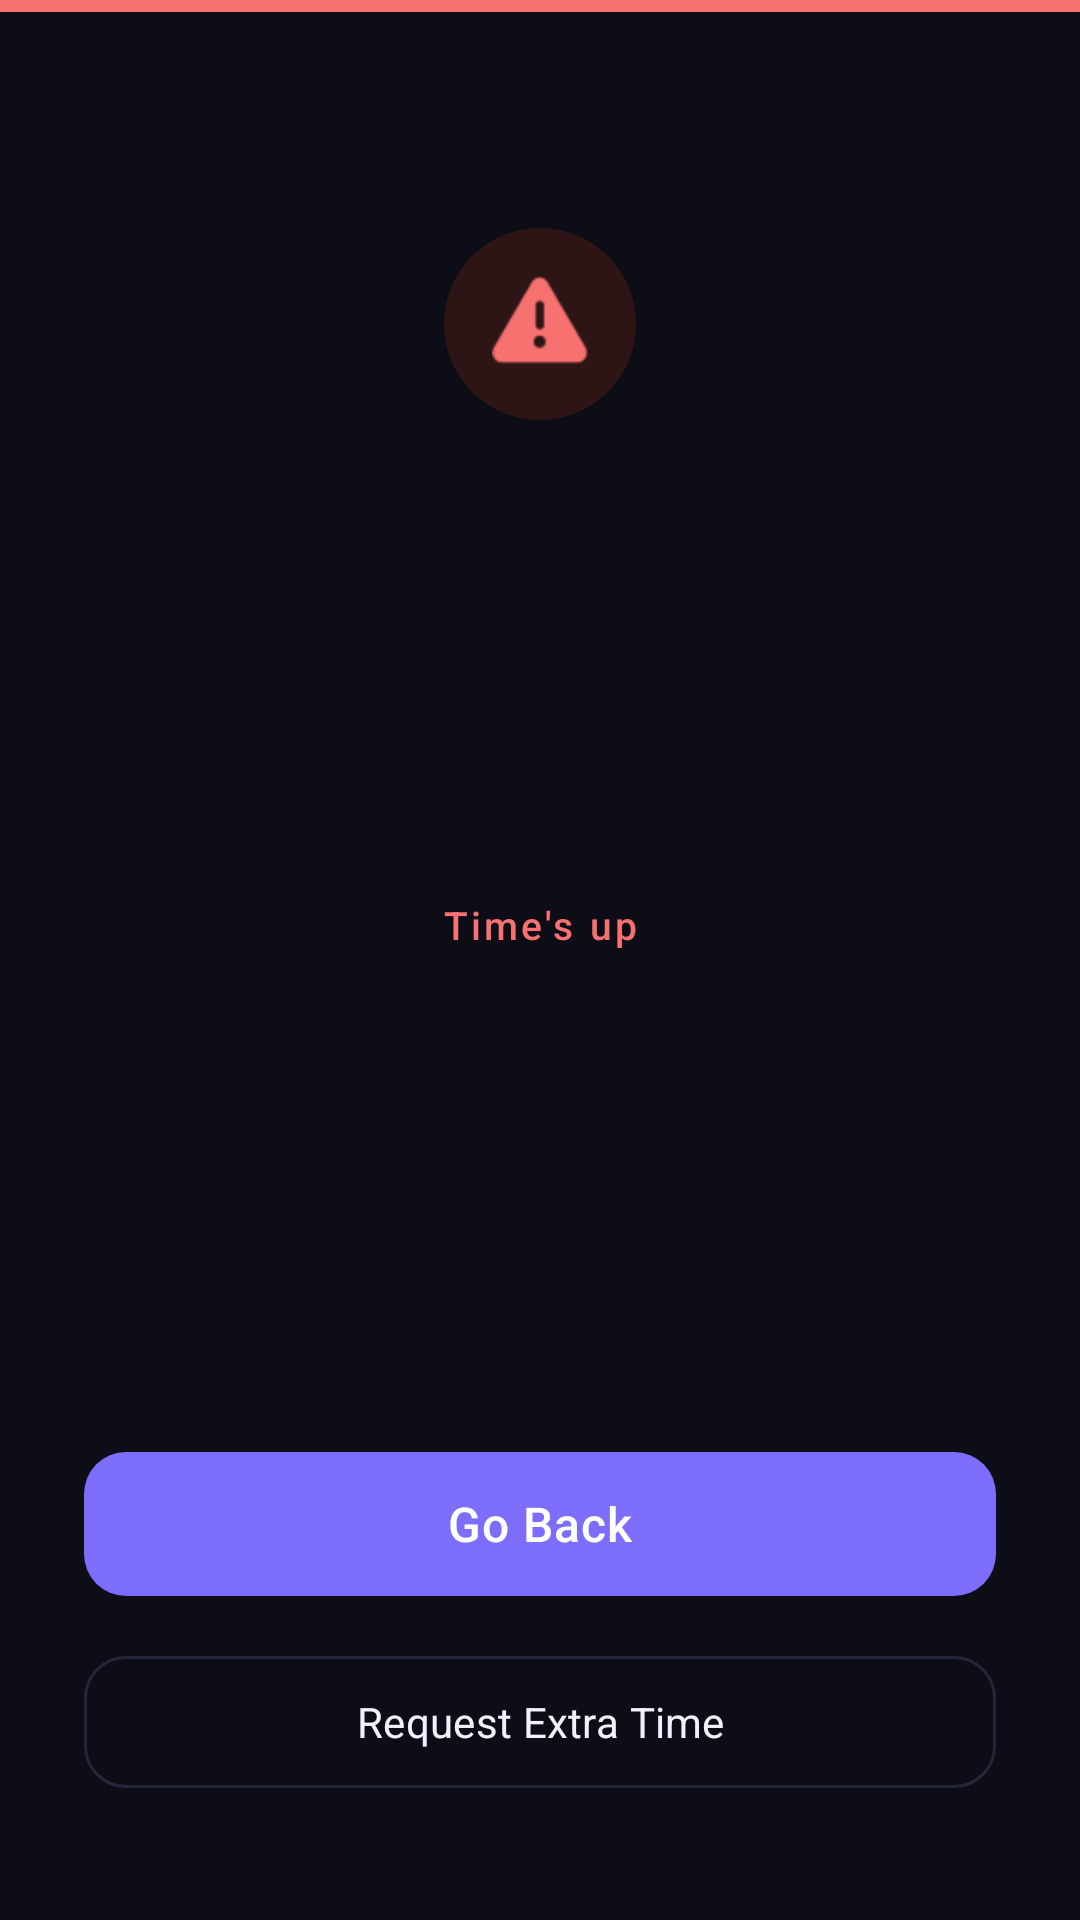

Named icons in this screenshot (1080x1920) and their centers, (x,y):
Warning icon: (540,320)
